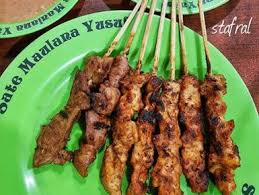sate: (28, 45, 259, 194)
